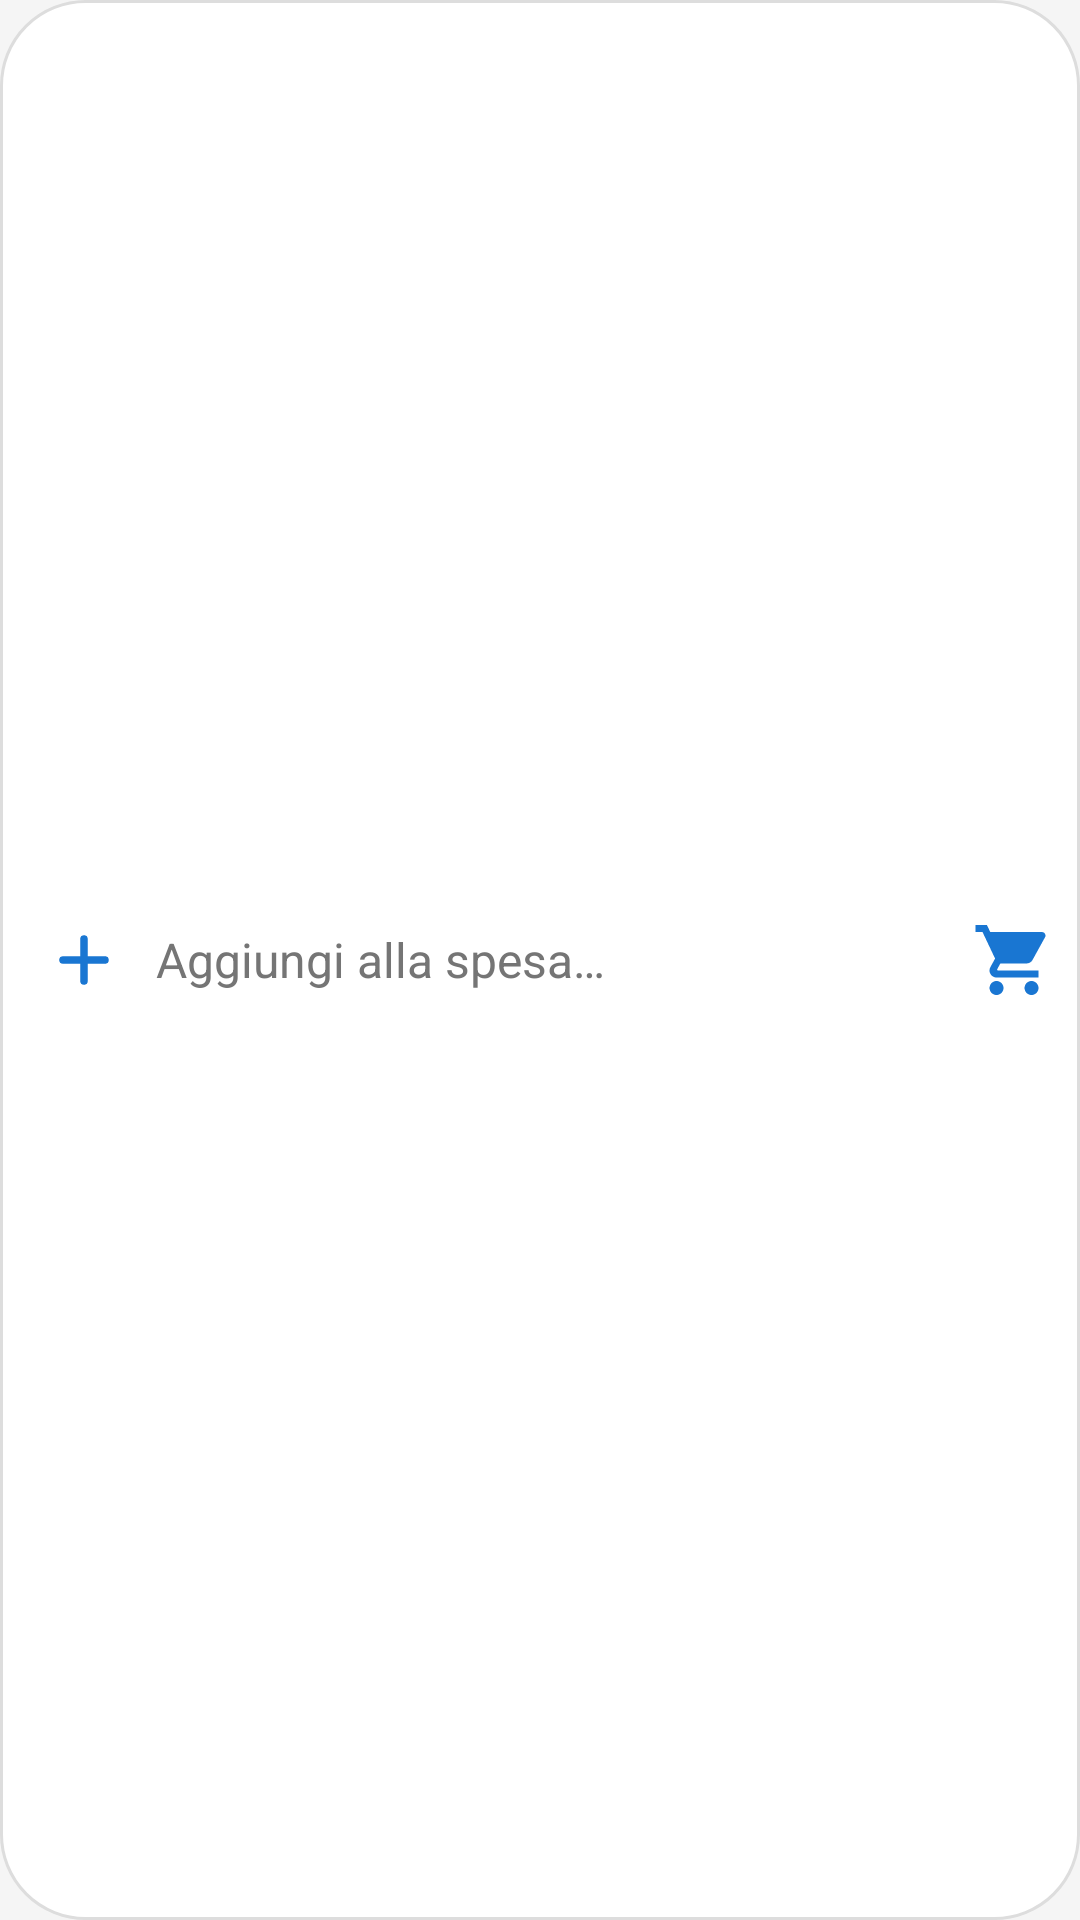

Named icons in this screenshot (1080×1920) and their bounding boxes, box(x1, y1, x2, y2):
add: box(59, 935, 109, 985)
